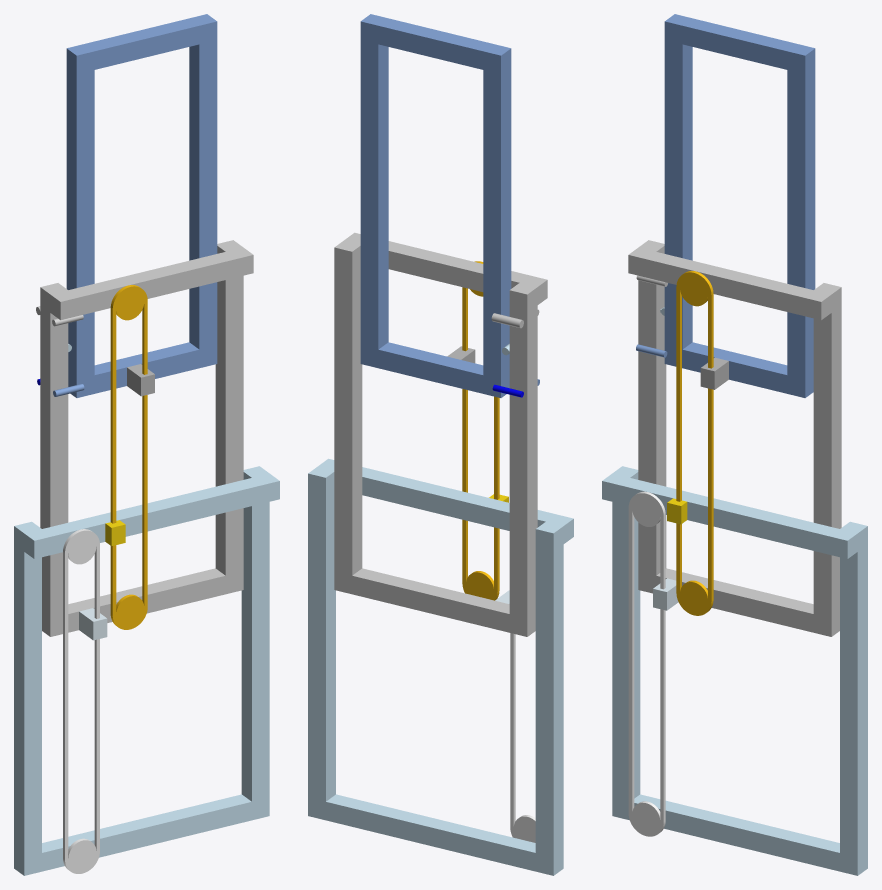
The model's file is prototype-lift-v1.glb.
The picture shows the model from 3 angles, left to right: view 1: azimuth 30°, elevation 25°; view 2: azimuth 150°, elevation 25°; view 3: azimuth 330°, elevation 25°; orthographic projection.
Parts seen in each view (by area): view 1: Stage 1, Stage 2, Stage 3, Stage 2-3 Chain, Stage1-2 chain, Stage 1-2 pillow, Stage 3 Pillow; view 2: Stage 1, Stage 2, Stage 3, Stage 2-3 Chain, Stage1-2 chain; view 3: Stage 1, Stage 2, Stage 3, Stage1-2 chain, Stage 2-3 Chain, Stage 3 Pillow, Stage 1-2 pillow.
Part boxes in pixels (x1,y1,x2,y2): Stage 1: (14, 466, 279, 875); Stage 2: (40, 240, 253, 636); Stage 3: (66, 14, 217, 397); Stage 2-3 Chain: (110, 285, 147, 629); Stage1-2 chain: (63, 529, 99, 873); Stage 1-2 pillow: (79, 608, 107, 640); Stage 3 Pillow: (127, 364, 154, 396); Stage 1: (308, 458, 573, 875); Stage 2: (334, 232, 547, 636); Stage 3: (360, 14, 511, 397); Stage 2-3 Chain: (462, 261, 499, 600); Stage1-2 chain: (510, 633, 535, 842); Stage 1: (602, 466, 867, 875); Stage 2: (628, 240, 841, 636); Stage 3: (664, 14, 815, 397); Stage1-2 chain: (628, 491, 665, 836); Stage 2-3 Chain: (676, 271, 713, 615); Stage 3 Pillow: (700, 357, 728, 389); Stage 1-2 pillow: (653, 578, 678, 610).
Size of the model in its own units: 0.35 by 1.1 by 0.0798.
